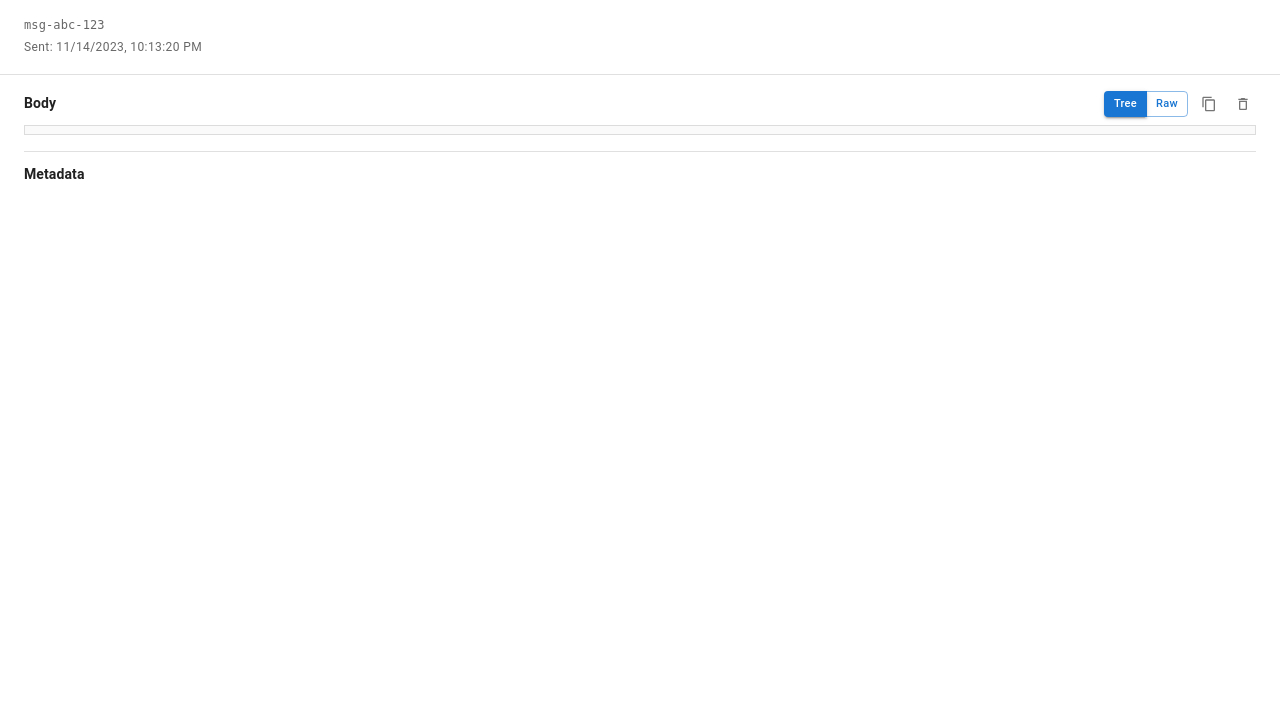
Scenario: <MessageDetail /> › opens the confirmation dialog when the delete button is clicked
Click the button named "Delete message" at x=1243, y=104, box [1230,91,1256,117]
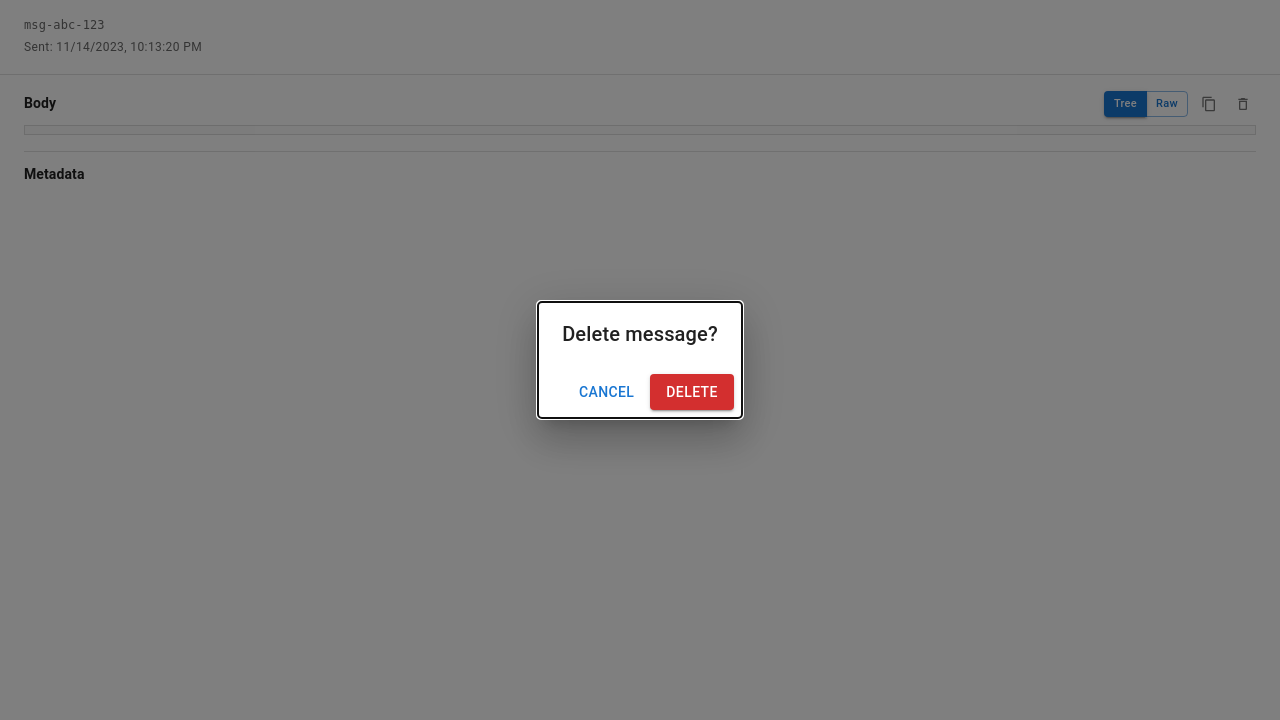
Now the heading "Delete message?" is shown, box [562,322,718,346]
Now the button "Delete" is shown, box [650,374,734,410]
Now the button "Cancel" is shown, box [571,374,642,410]
